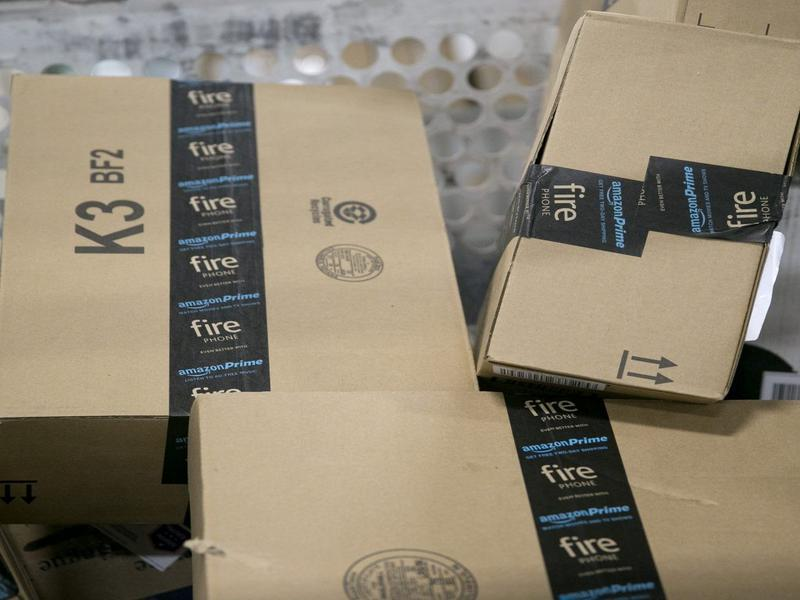package: (11, 48, 476, 391), (463, 9, 789, 416), (175, 382, 788, 589)
